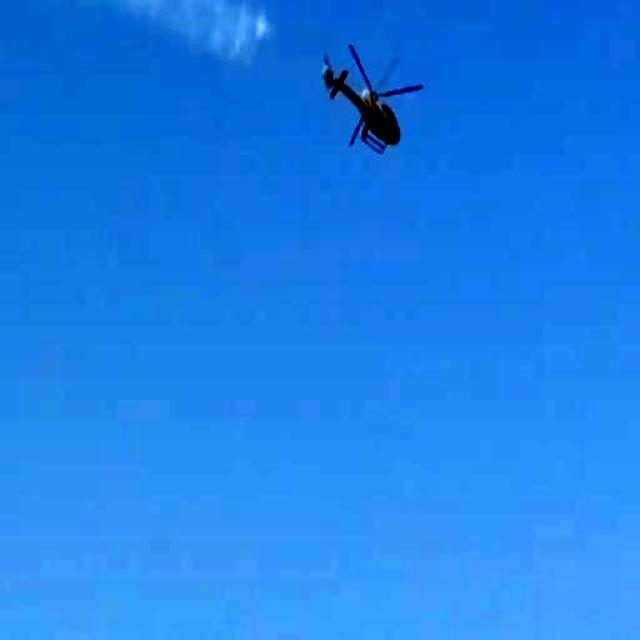drone: (312, 15, 426, 172)
